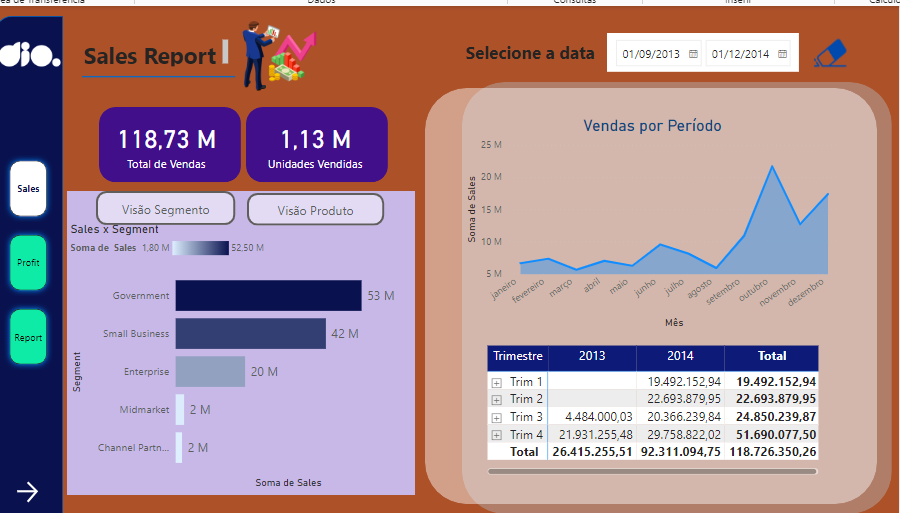

The page's visual inventory and layout, read from the dashboard file:
{"tool":"powerbi","page":{"name":"Sales","canvas":[1280,720],"ordinal":0},"visuals":[{"type":"group","id":"g1","title":"Layout","box":[0,-0.5,511.4,720],"z":0},{"type":"shape","box":[0,13.4,96.4,706.2],"z":0,"group":"g1"},{"type":"slicer","fields":{"Values":["financials.Date"]},"box":[867.2,38.7,272.2,55],"z":0,"group":"g3"},{"type":"shape","box":[123.8,84.5,217.2,33],"z":0,"group":"g4"},{"type":"shape","box":[147.2,142.2,201.4,106.8],"z":0,"group":"g2"},{"type":"areaChart","title":"Vendas por Período","fields":{"Category":["financials.Date.Variation.Hierarquia de datas.Ano","financials.Date.Variation.Hierarquia de datas.Mês"],"Y":["Sum(financials. Sales)"]},"box":[661.6,156.1,539.7,306.2],"z":0,"group":"g6"},{"type":"clusteredBarChart","title":"Sales x Segment","fields":{"Category":["financials.Segment"],"Y":["Sum(financials. Sales)"]},"box":[102,306.6,479.1,382.7],"z":0,"group":"g5"},{"type":"image","title":"logo_dio","box":[0,35.7,98.2,63.2],"z":1000,"group":"g1"},{"type":"textbox","box":[120.4,43.1,215.2,48.5],"z":1000,"group":"g4"},{"type":"textbox","box":[661.6,44.7,199.6,45.6],"z":1000,"group":"g3"},{"type":"shape","box":[355.9,142.2,201.4,106.8],"z":1000,"group":"g2"},{"type":"actionButton","title":"Botão - Next","box":[25.9,669,48.8,39.6],"z":1000},{"type":"image","box":[322.6,-0.5,188.8,141.2],"z":2000,"group":"g1"},{"type":"actionButton","box":[1153.4,43.3,59.9,51.3],"z":2000,"group":"g3"},{"type":"group","id":"g2","title":"Cartões","box":[147.2,141.2,410.3,107],"z":2000},{"type":"card","fields":{"Values":["Sum(financials. Sales)"]},"box":[161.1,141.2,162.6,106.9],"z":2000,"group":"g2"},{"type":"actionButton","title":"B-Segmento","box":[143,262.2,197.5,48.4],"z":2000,"group":"g5"},{"type":"group","id":"g3","title":"Filtro por data","box":[661.6,38.7,551.5,55],"z":3000},{"type":"image","title":"clean","box":[1153.4,39,59.9,55.6],"z":3000,"group":"g3"},{"type":"card","fields":{"Values":["Sum(financials.Units Sold)"]},"box":[375.8,145.4,156.5,98.6],"z":3000,"group":"g2"},{"type":"actionButton","title":"B-Produto","box":[357.4,264.9,194.6,46.3],"z":3000,"group":"g5"},{"type":"shape","box":[661.9,107.7,609.4,612.3],"z":4000},{"type":"group","id":"g4","title":"Title report","box":[120.4,43.1,221.5,74.3],"z":5000},{"type":"group","id":"g5","title":"Grupo 1","box":[102,262.2,493.2,430.9],"z":6000},{"type":"shape","box":[609.4,116.2,640.6,589.6],"z":7000},{"type":"group","id":"g6","title":"Perspectiva temporal das vendas","box":[661.6,156.1,539.7,306.2],"z":8000},{"type":"pivotTable","fields":{"Values":["Sum(financials. Sales)"],"Columns":["financials.Date.Variation.Hierarquia de datas.Ano"],"Rows":["financials.Date.Variation.Hierarquia de datas.Trimestre","financials.Date.Variation.Hierarquia de datas.Mês"]},"box":[692.8,475.7,478.7,193.3],"z":9000},{"type":"pageNavigator","box":[13.4,211.1,69.9,306.2],"z":10000}]}

Visuals, with their boxes on the page's 1280x720 design canvas (x1, y1, x2, y2). These are canvas units, not pixel positions in the 900x513 screenshot, which may show the page scaled, cropped or inside an application window:
"Layout" group: {"x1": 0, "y1": 0, "x2": 511, "y2": 720}
shape: {"x1": 0, "y1": 13, "x2": 96, "y2": 720}
slicer - financials.Date: {"x1": 867, "y1": 39, "x2": 1139, "y2": 94}
shape: {"x1": 124, "y1": 84, "x2": 341, "y2": 118}
shape: {"x1": 147, "y1": 142, "x2": 349, "y2": 249}
"Vendas por Período" areaChart: {"x1": 662, "y1": 156, "x2": 1201, "y2": 462}
"Sales x Segment" clusteredBarChart: {"x1": 102, "y1": 307, "x2": 581, "y2": 689}
"logo_dio" image: {"x1": 0, "y1": 36, "x2": 98, "y2": 99}
textbox: {"x1": 120, "y1": 43, "x2": 336, "y2": 92}
textbox: {"x1": 662, "y1": 45, "x2": 861, "y2": 90}
shape: {"x1": 356, "y1": 142, "x2": 557, "y2": 249}
"Botão - Next" actionButton: {"x1": 26, "y1": 669, "x2": 75, "y2": 709}
image: {"x1": 323, "y1": 0, "x2": 511, "y2": 141}
actionButton: {"x1": 1153, "y1": 43, "x2": 1213, "y2": 95}
"Cartões" group: {"x1": 147, "y1": 141, "x2": 558, "y2": 248}
card - Sum(financials. Sales): {"x1": 161, "y1": 141, "x2": 324, "y2": 248}
"B-Segmento" actionButton: {"x1": 143, "y1": 262, "x2": 340, "y2": 311}
"Filtro por data" group: {"x1": 662, "y1": 39, "x2": 1213, "y2": 94}
"clean" image: {"x1": 1153, "y1": 39, "x2": 1213, "y2": 95}
card - Sum(financials.Units Sold): {"x1": 376, "y1": 145, "x2": 532, "y2": 244}
"B-Produto" actionButton: {"x1": 357, "y1": 265, "x2": 552, "y2": 311}
shape: {"x1": 662, "y1": 108, "x2": 1271, "y2": 720}
"Title report" group: {"x1": 120, "y1": 43, "x2": 342, "y2": 117}
"Grupo 1" group: {"x1": 102, "y1": 262, "x2": 595, "y2": 693}
shape: {"x1": 609, "y1": 116, "x2": 1250, "y2": 706}
"Perspectiva temporal das vendas" group: {"x1": 662, "y1": 156, "x2": 1201, "y2": 462}
pivotTable - Sum(financials. Sales) x financials.Date.Variation.Hierarquia de datas.Ano: {"x1": 693, "y1": 476, "x2": 1172, "y2": 669}
pageNavigator: {"x1": 13, "y1": 211, "x2": 83, "y2": 517}
